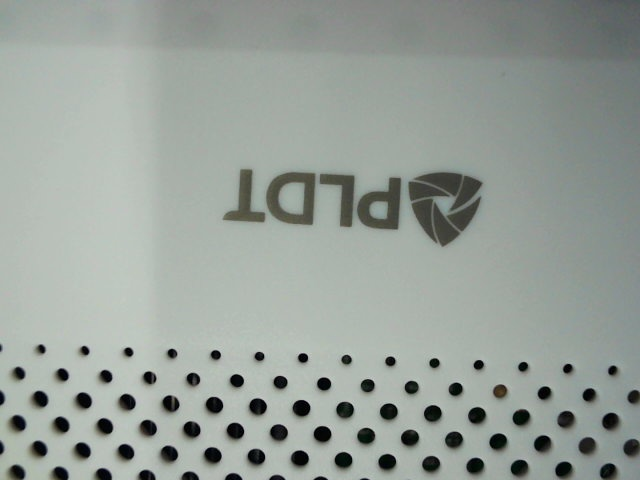BH_PLDT: (205, 147, 505, 257)
